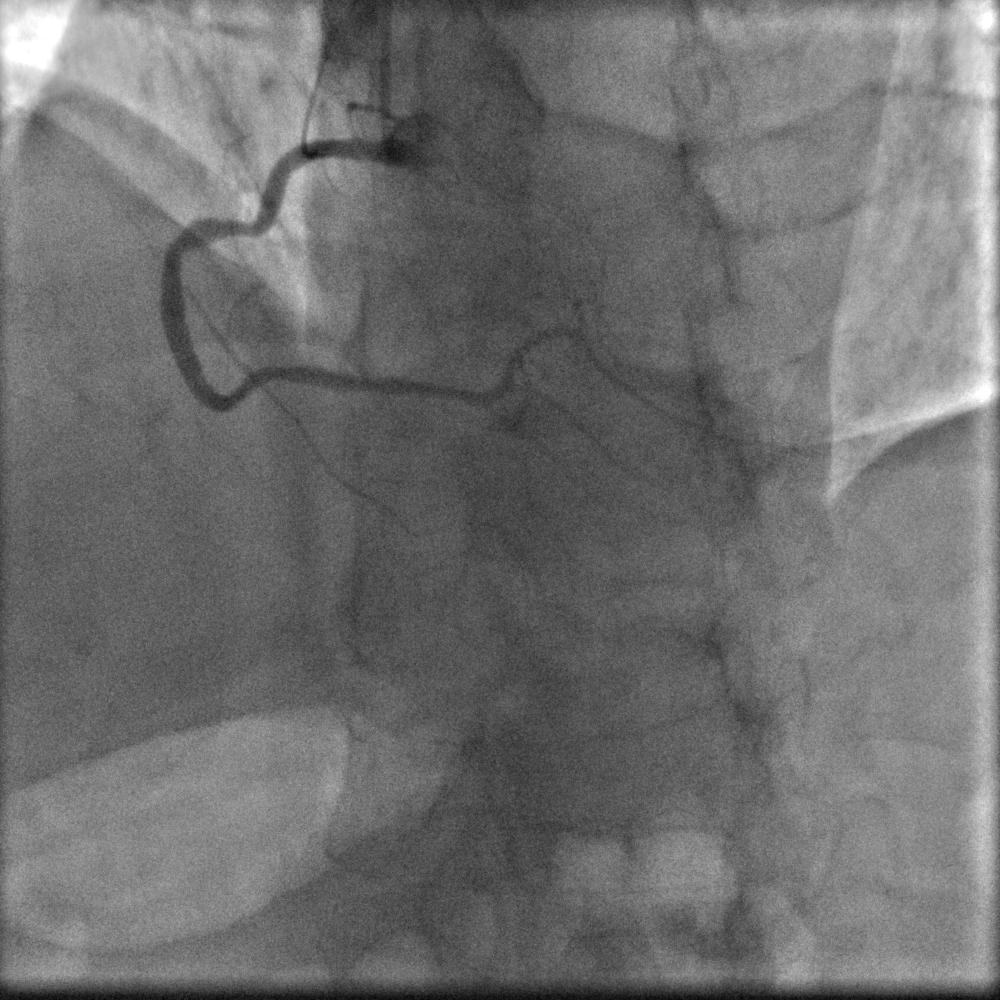Stenosis: (159, 232, 192, 263)
